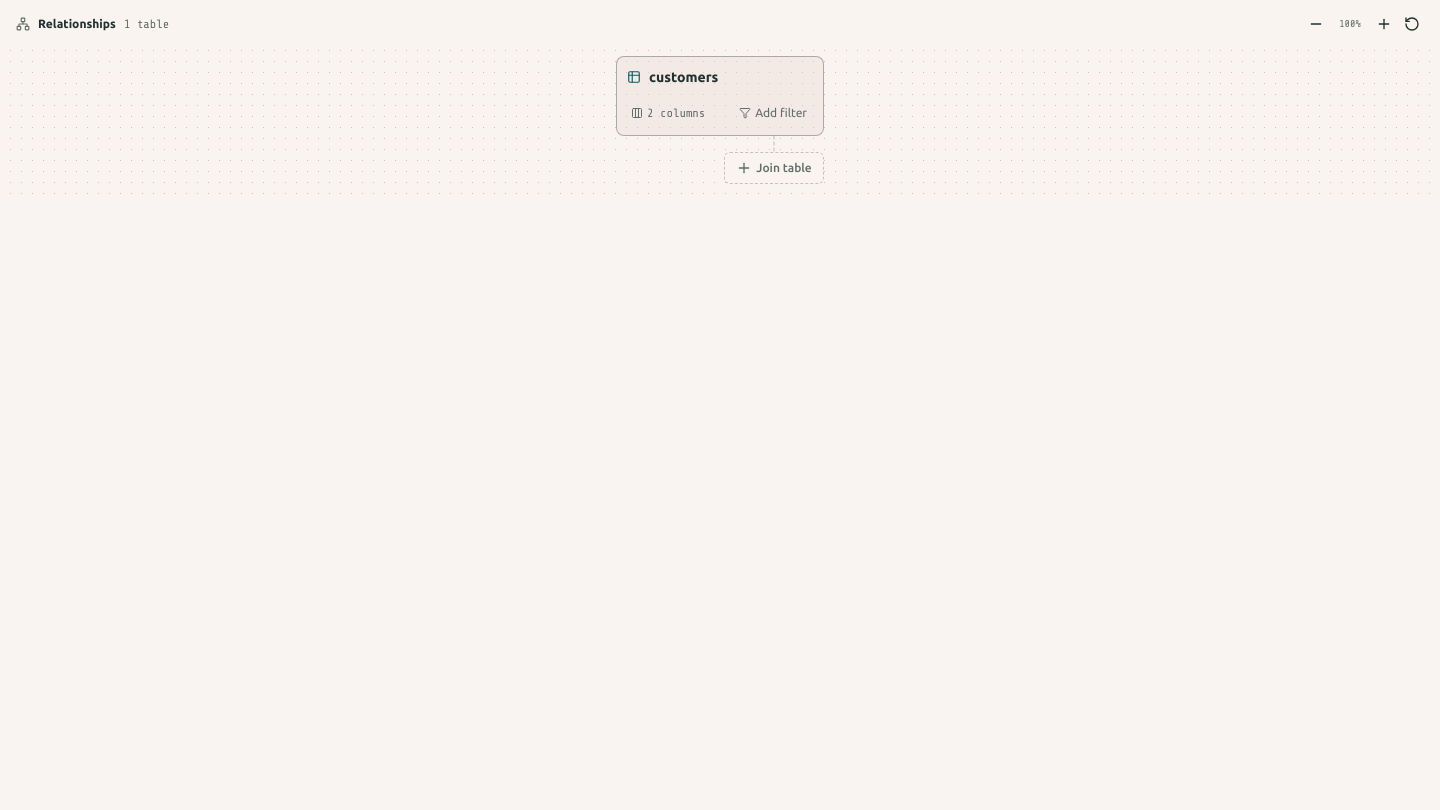
Test: TableNavigator › removes nonmatching rows when several relationships point to the same table
The width and height of the screenshot is (1440, 810).
Step 1. Click the button with aria-label "Add related table to customers" → [774, 168], box [724, 152, 824, 184]
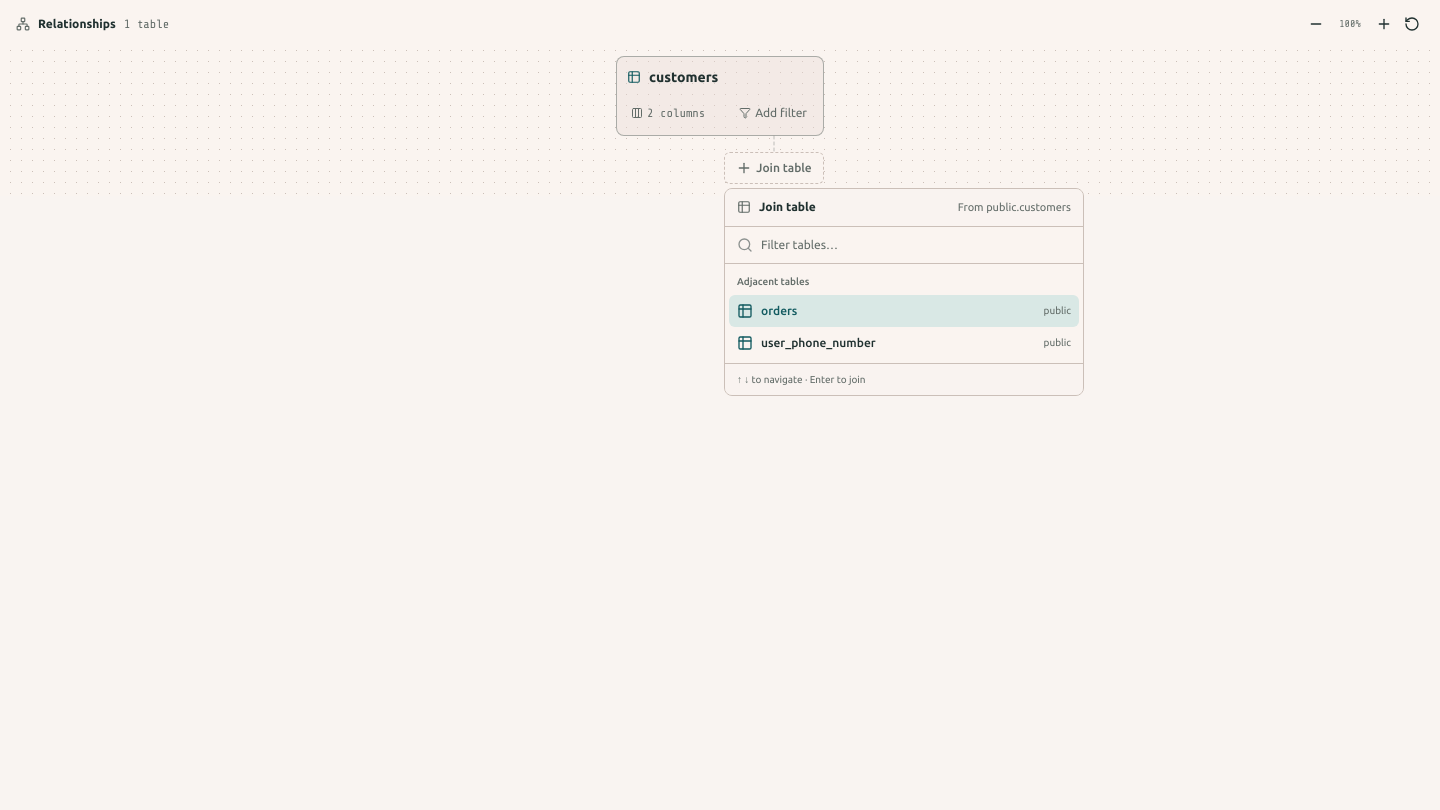
Step 2. Type "phone" into the dropdown labelled "Filter tables" → [916, 244], box [761, 226, 1071, 262]
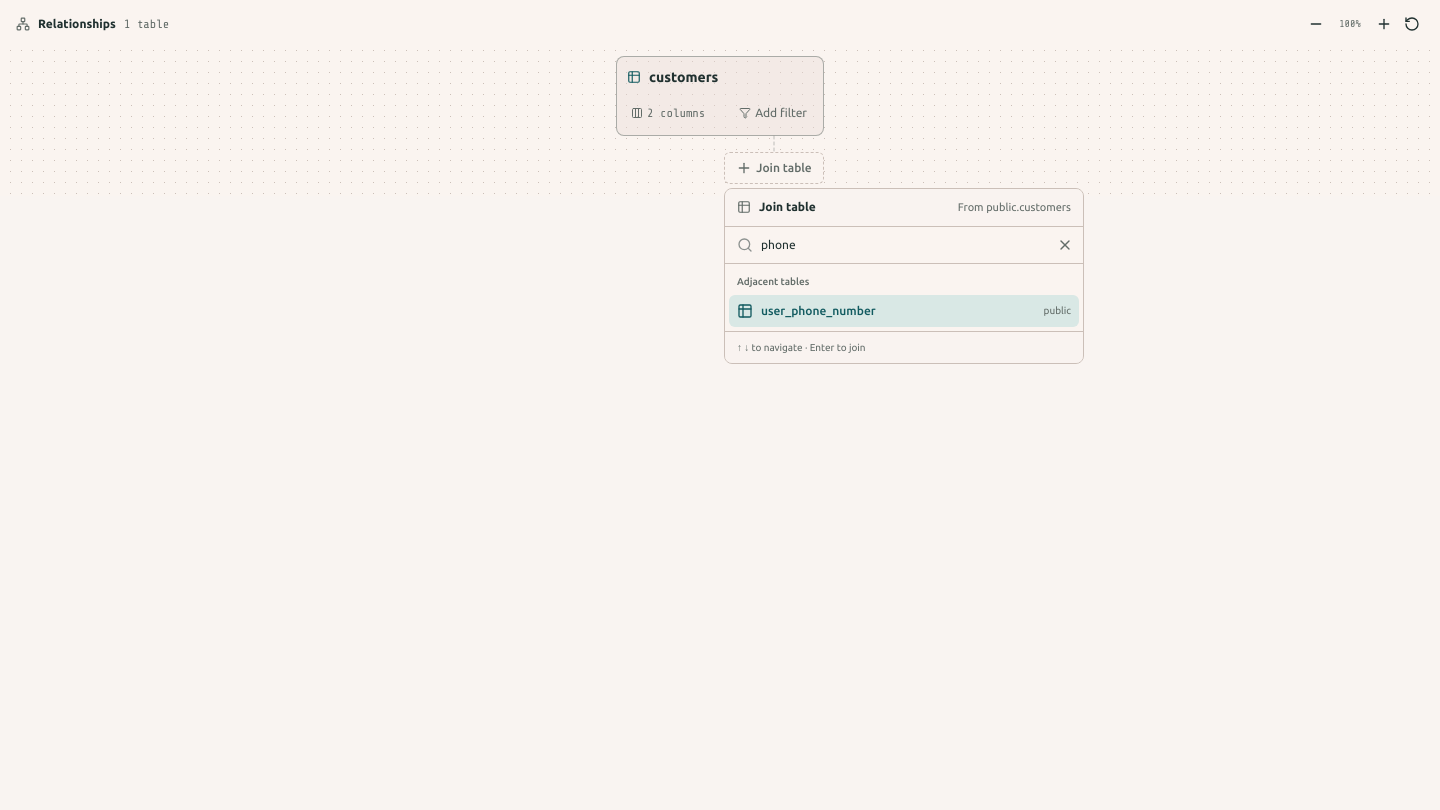
Expected: no options "orders" are shown
Step 3. Clear the dropdown named "Filter tables" → [916, 244], box [761, 226, 1071, 262]
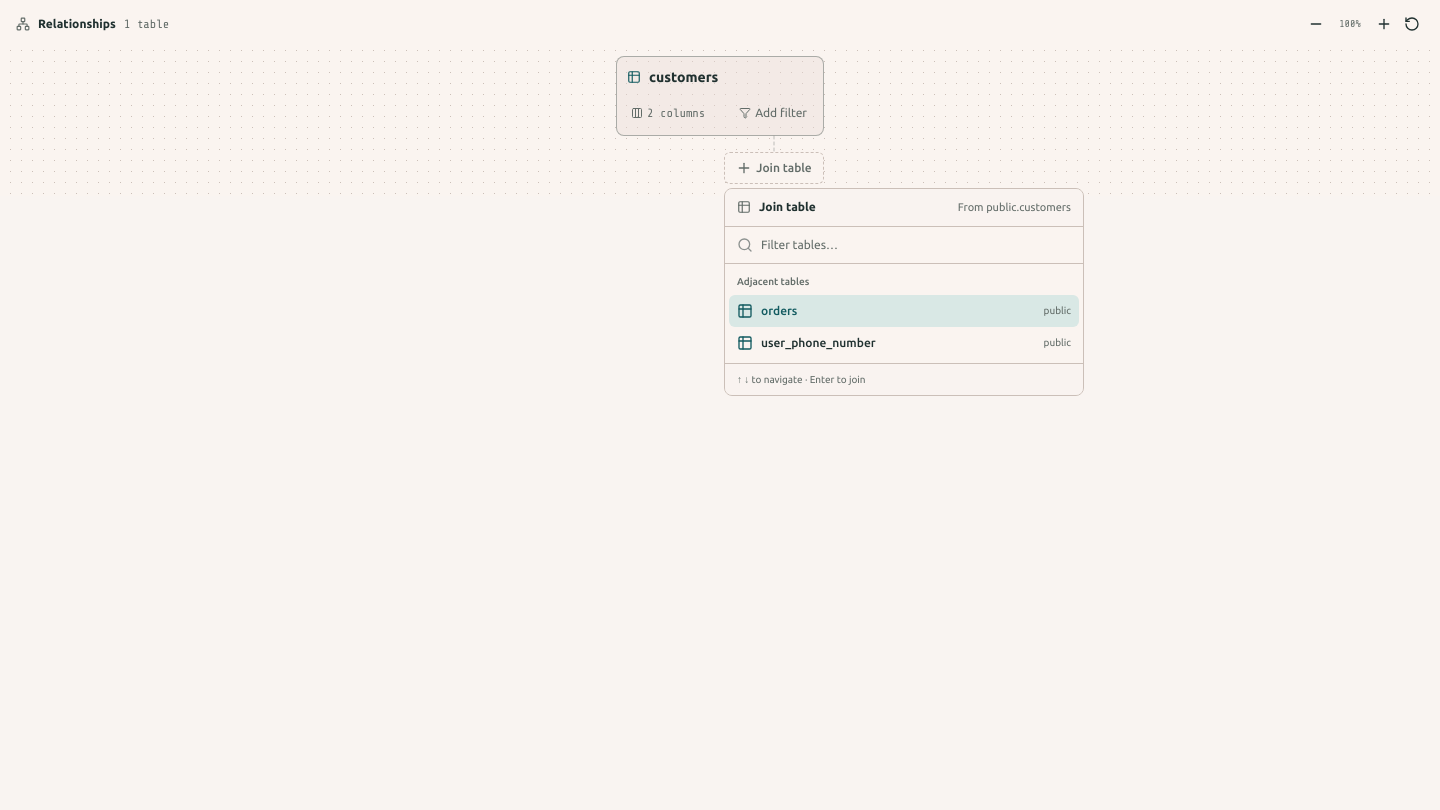
Expected: the number of options "orders public" is 1, [729, 294, 1079, 326]
